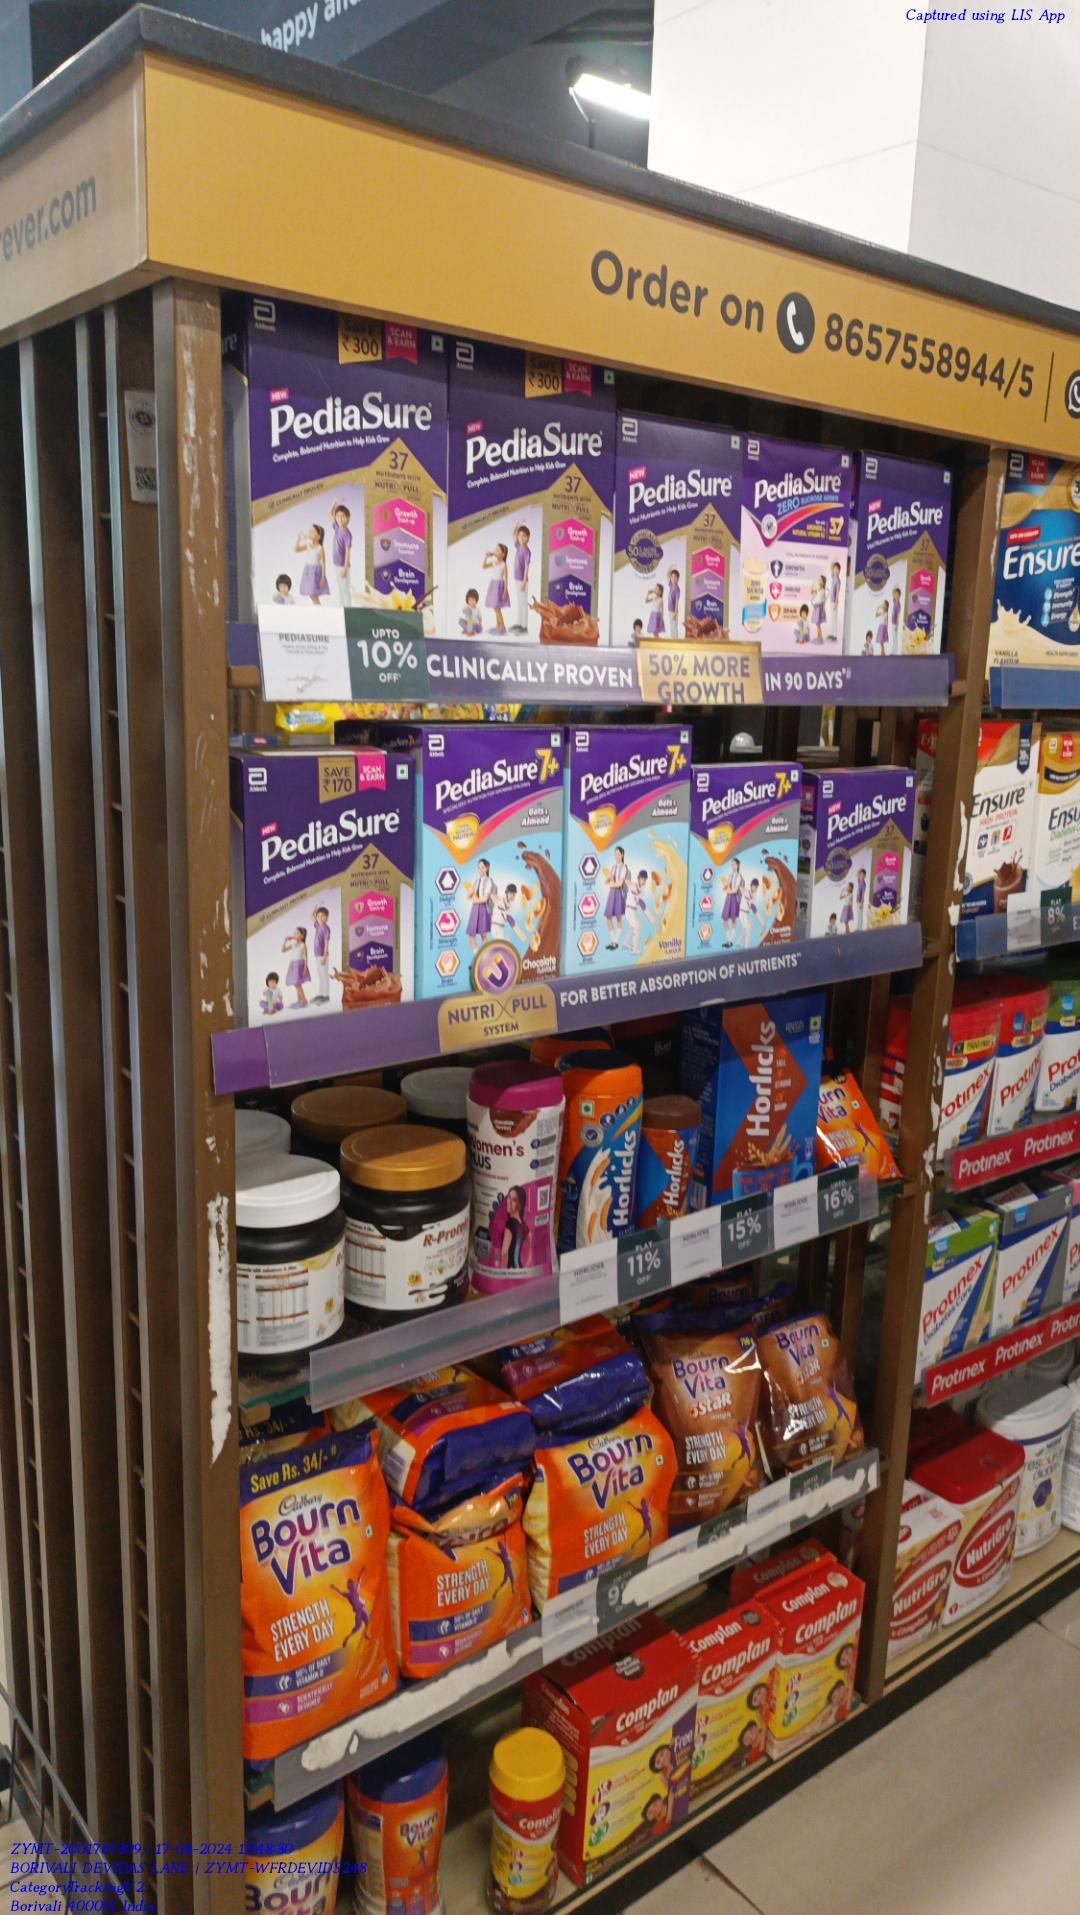BOURN_VITA_500_G_POUCH: (245, 1434, 403, 1741), (530, 1388, 680, 1581)
BOURN_VITA_FIVE_STAR_MAGIC_750_G_POUCH: (766, 1297, 875, 1473), (685, 1313, 763, 1532)
COMPLAN_CHOCOLATE_200_GMS_PACK: (700, 1647, 772, 1780)
COMPLAN_CHOCOLATE_500_GMS_PACK: (584, 1669, 697, 1862)
COMPLAN_KESAR_BADAM_200_GMS_PACK: (781, 1591, 860, 1733)
HORLICK_CHOCOLATE_200_G_JAR: (645, 1092, 699, 1228)
HORLICK_CHOCOLATE_500_G_PACK: (718, 996, 822, 1202)
HORLICK_CLASSIC_MALT_200_G_JAR: (563, 1050, 639, 1247)
PEDIASURE_7_PLUS_CHOCOLATE_400_G_PACK: (691, 765, 804, 952)
PEDIASURE_CHOCOLATE_500_G_PACK: (245, 755, 416, 1010)
PEDIASURE_VANILLA_500_G_PACK: (816, 769, 917, 939)
